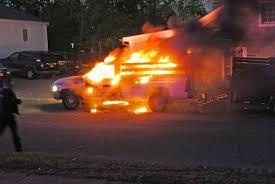fire: (83, 29, 180, 116)
